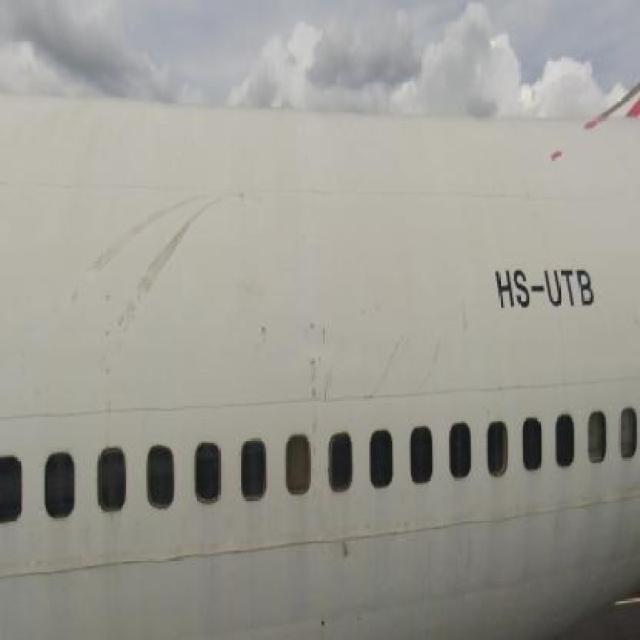Scartch: (301, 305, 339, 426), (336, 535, 352, 576)
